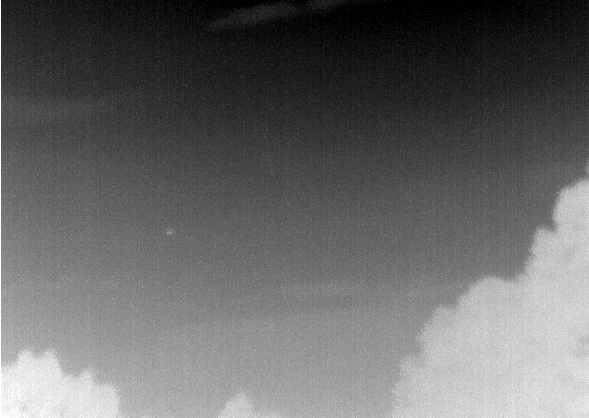dim target: (163, 227, 176, 236)
